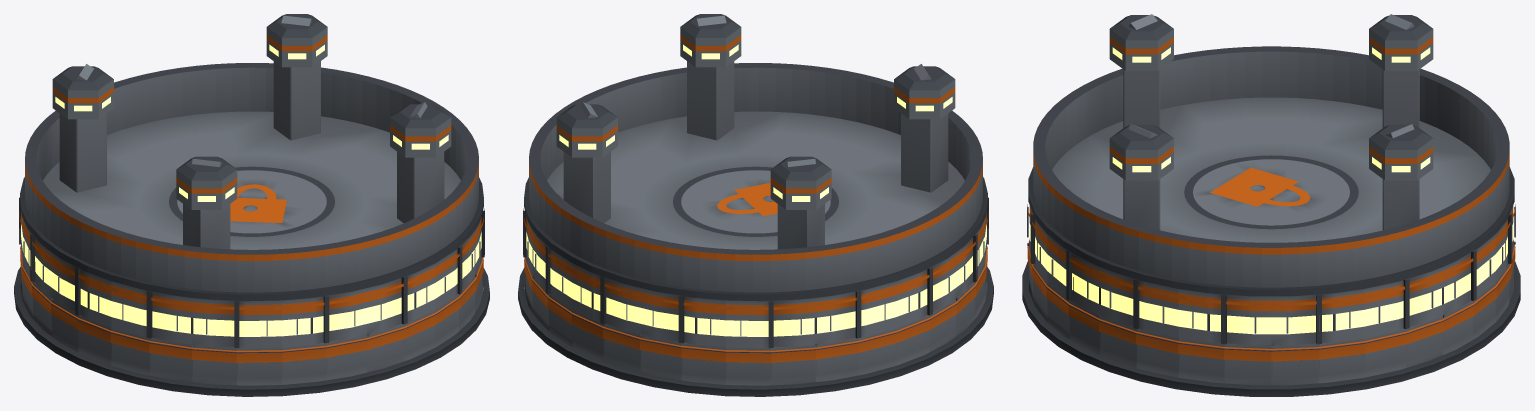
File: jail_m_far.glb
The picture shows the model from 3 angles, left to right: view 1: azimuth 30°, elevation 25°; view 2: azimuth 150°, elevation 25°; view 3: azimuth 270°, elevation 25°; orthographic projection. The views are drawn at different scales.
Parts seen in each view (by area): view 1: Roof, Base; view 2: Roof, Base; view 3: Roof, Base.
Boxes of the visible parts, <box> form: Roof: <box>19,14,484,348</box>; Base: <box>14,246,489,396</box>; Roof: <box>523,14,988,348</box>; Base: <box>518,246,993,396</box>; Roof: <box>1027,14,1515,345</box>; Base: <box>1022,239,1520,396</box>.
Size of the model in its own units: 14.75 by 7.13 by 14.75.
